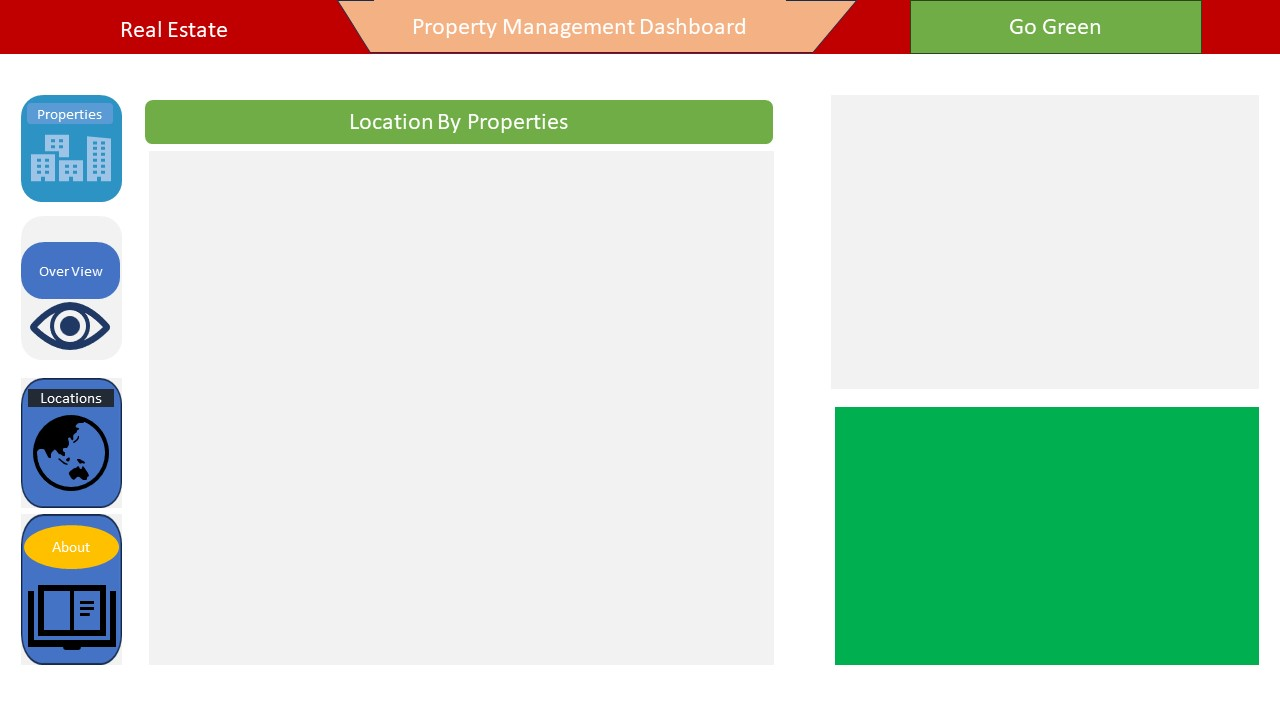

This screenshot's page, from the dashboard's own definition file:
{"tool":"powerbi","page":{"name":"Location","canvas":[1280,720],"ordinal":1},"visuals":[{"type":"map","fields":{"Series":["dim_location.Property location"],"Category":["dim_location.Property location"],"Size":["measure table.Total properties"]},"box":[154.4,152,613.9,502.9],"z":0},{"type":"pivotTable","fields":{"Rows":["dim_floor.Floor Status"],"Columns":["dim_condition.Condition Status"],"Values":["measure table.Total properties"]},"box":[837,102.5,414.9,271.4],"z":1000},{"type":"pivotTable","fields":{"Columns":["dim_condition.Condition Status"],"Values":["measure table.Total properties"],"Rows":["dim_bedroom.BEDROOMS STATUS"]},"box":[827.3,404,436.6,282.2],"z":2000}]}

Visuals, with their boxes in screenshot pixels (x1, y1, x2, y2), scaled from the page's 1280x720 canvas onto the 1280x720 screenshot:
map - dim_location.Property location x dim_location.Property location: l=154, t=152, r=768, b=655
pivotTable - dim_floor.Floor Status x dim_condition.Condition Status: l=837, t=102, r=1252, b=374
pivotTable - dim_condition.Condition Status x measure table.Total properties: l=827, t=404, r=1264, b=686
